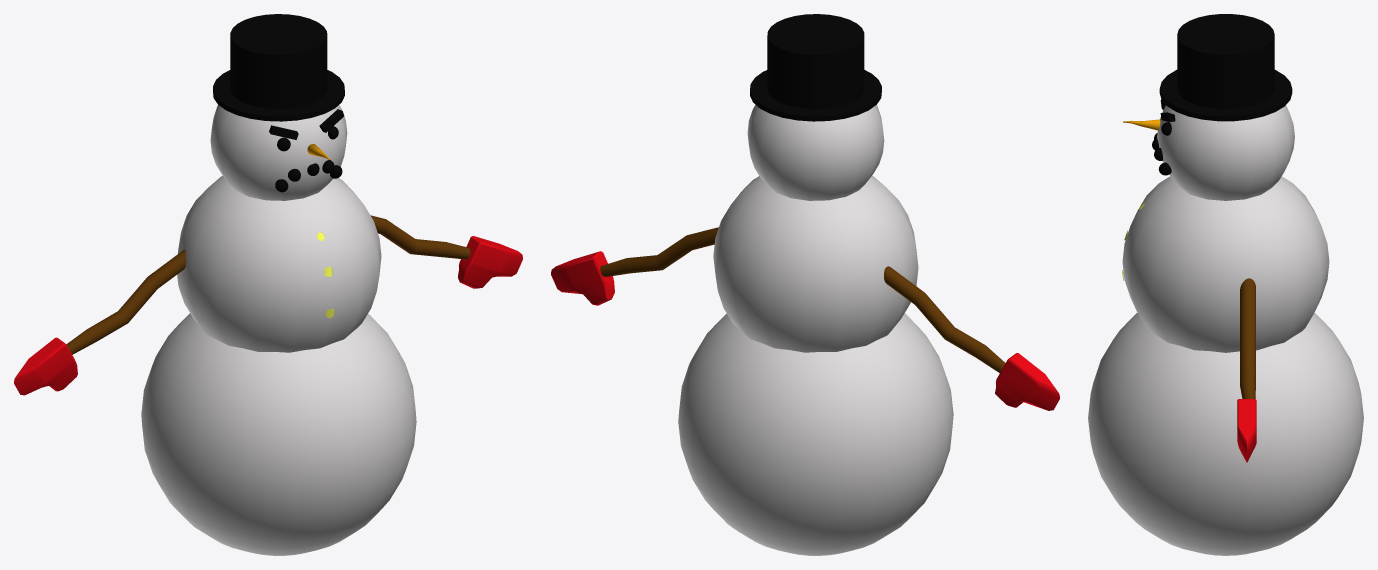
File: snowman.fbx
3 views of the same model, side by side, from view 1: azimuth 30°, elevation 25°; view 2: azimuth 150°, elevation 25°; view 3: azimuth 270°, elevation 25° (orthographic).
Parts seen in each view (by area): view 1: Stump, Chest, Hat, Head, ArmL, MittenL, MittenR, ArmR, Mouth; view 2: Stump, Chest, Hat, Head, MittenL, ArmL, MittenR, ArmR; view 3: Stump, Chest, Hat, Head, ArmR, MittenR.
Part boxes in pixels (left/top/right/bottom): Stump: left=141, top=313, right=416, bottom=555; Chest: left=177, top=175, right=381, bottom=352; Hat: left=213, top=14, right=344, bottom=121; Head: left=210, top=105, right=347, bottom=200; ArmL: left=66, top=249, right=186, bottom=354; MittenL: left=14, top=337, right=77, bottom=395; MittenR: left=458, top=236, right=522, bottom=288; ArmR: left=370, top=215, right=470, bottom=259; Mouth: left=275, top=160, right=342, bottom=192; Stump: left=678, top=313, right=953, bottom=555; Chest: left=713, top=176, right=918, bottom=352; Hat: left=750, top=14, right=881, bottom=121; Head: left=747, top=105, right=884, bottom=200; MittenL: left=995, top=353, right=1059, bottom=410; ArmL: left=884, top=266, right=1005, bottom=372; MittenR: left=551, top=251, right=614, bottom=305; ArmR: left=600, top=227, right=718, bottom=277; Stump: left=1088, top=313, right=1363, bottom=555; Chest: left=1122, top=176, right=1329, bottom=352; Hat: left=1159, top=14, right=1292, bottom=121; Head: left=1157, top=105, right=1294, bottom=200; ArmR: left=1240, top=278, right=1255, bottom=398; MittenR: left=1237, top=399, right=1256, bottom=462.
Size of the model in its own units: 426 by 407 by 200.
